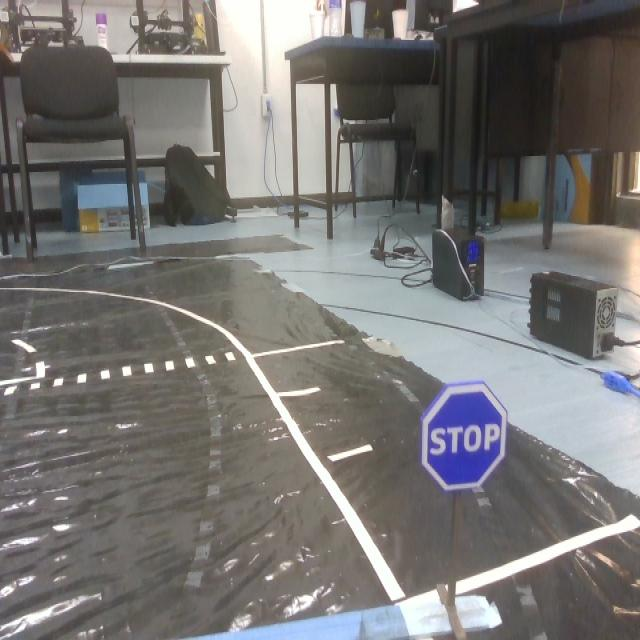no_entry: (425, 378, 503, 493)
